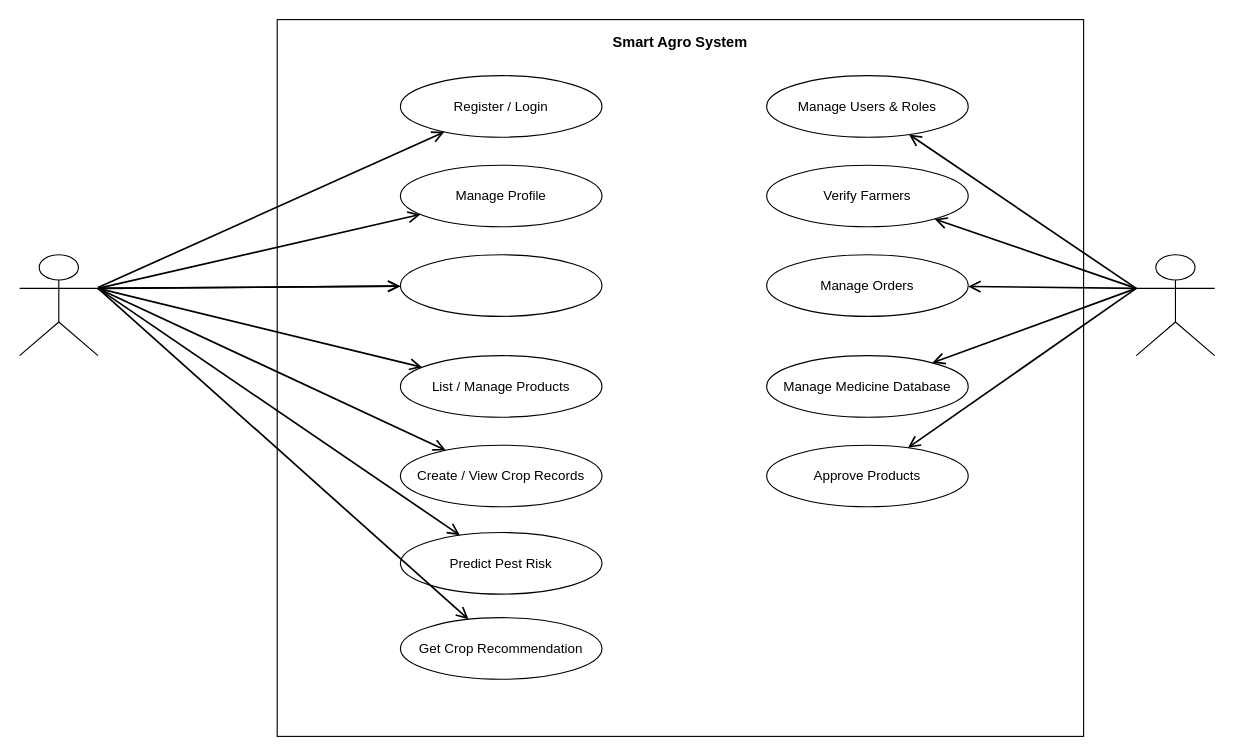
Image size: 1234x756. Some labels were removed from this diagram. The shapes that lost their labels are listed below. From the top down, each one's centre as x and y in pixels, then its label:
At pixel 58 305: "Farmer".
At pixel 500 285: "Recognize Plant Disease".
At pixel 1175 305: "Admin".
